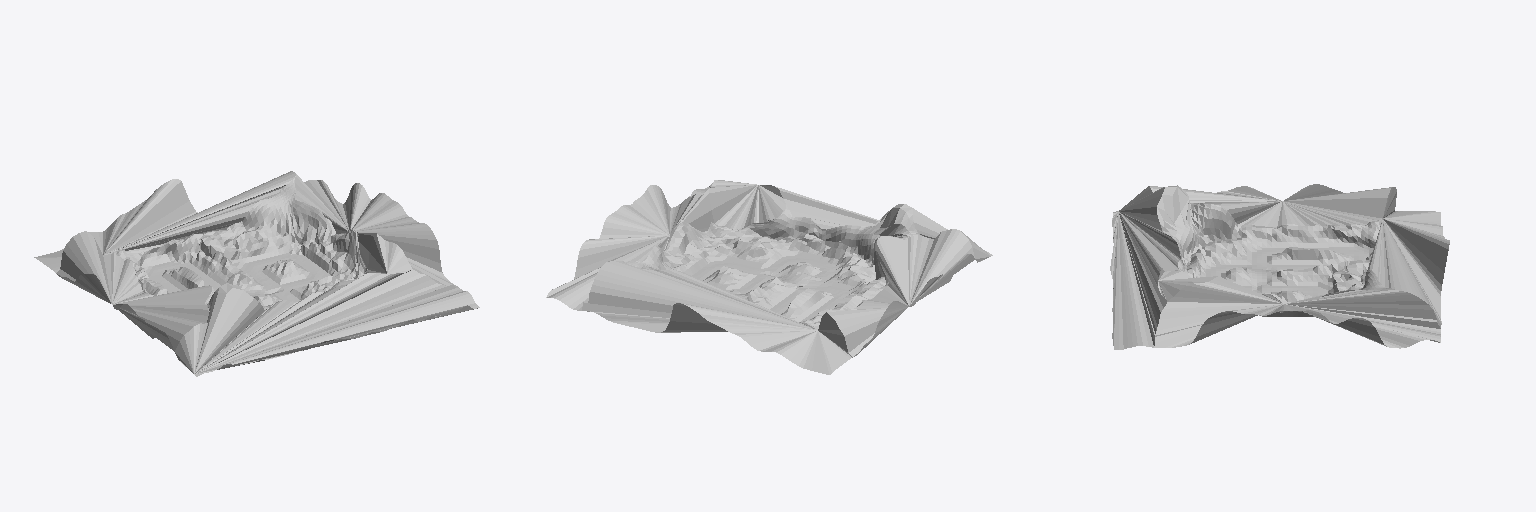
File: racetrack.obj
3 views of the same model, side by side, from view 1: azimuth 30°, elevation 25°; view 2: azimuth 150°, elevation 25°; view 3: azimuth 270°, elevation 25° (orthographic).
Parts seen in each view (by area): view 1: forest_track; view 2: forest_track; view 3: forest_track.
Boxes of the visible parts, x1=… form: forest_track: x1=34, y1=171, x2=479, y2=376; forest_track: x1=546, y1=180, x2=992, y2=374; forest_track: x1=1110, y1=184, x2=1449, y2=349.
Size of the model in its own units: 26.83 by 5.34 by 27.23.